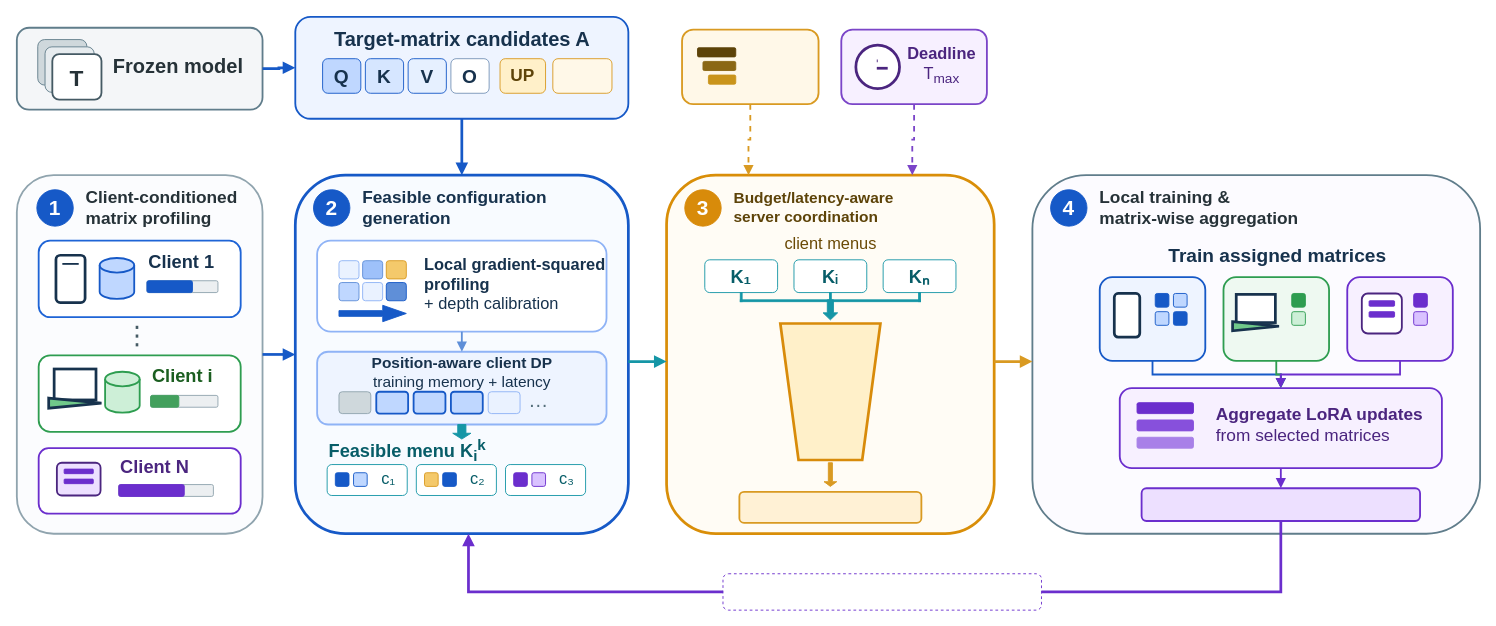
Some shapes in this 1496 by 626 pixel diagram are drawn without their labels. Here are the shapes that lost their labels. From the top down, the centre of each, then its label:
the point at 582,75: DOWN
the point at 750,66: Budget C k
the point at 830,391: Budget- constrained allocation
the point at 830,506: selected configurations
the point at 1280,504: global adapter θ k+1
the point at 881,591: global adapter θ k+1 → next round
